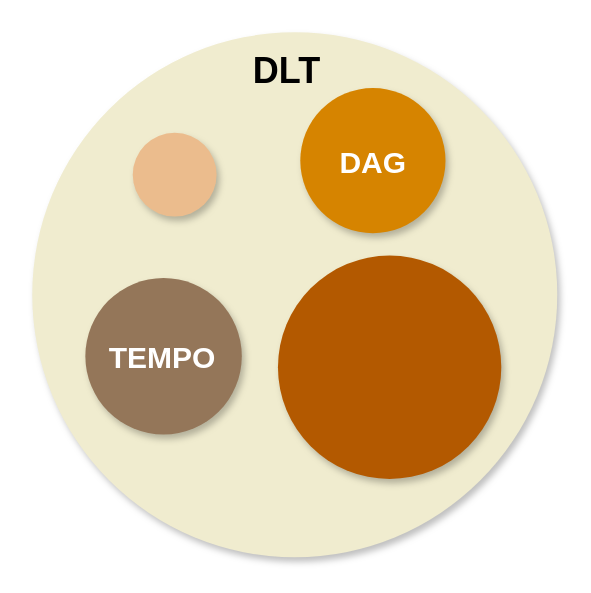
The diagram is 591 pixels wide and 593 high, and some of its shapes have lost their labels. The shapes that lost their labels are listed below. From the top down, each one's centre as x and y in pixels, then its label:
[175,176]: TAPLE
[390,369]: BLOCKCHAIN
